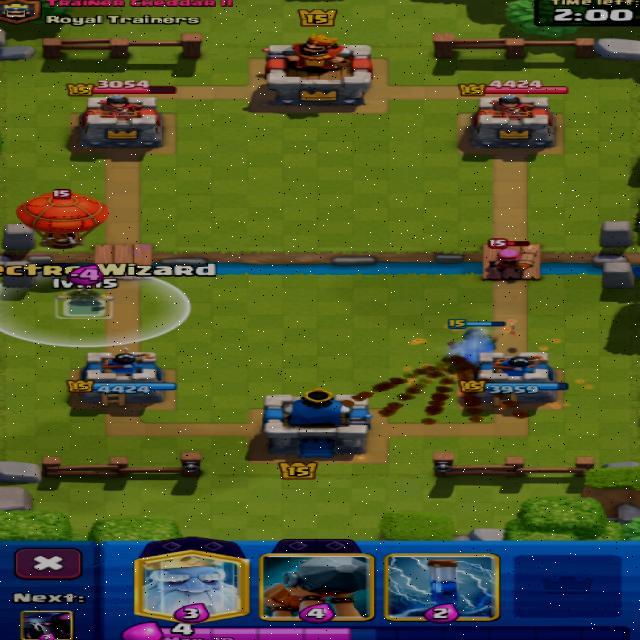Enemy-Balloon: (17, 190, 105, 248)
Enemy-Firecracker: (484, 249, 539, 274)
Enemy-KingTower: (265, 35, 371, 108)
Enemy-PrincessTower: (78, 95, 162, 149), (471, 95, 553, 148)
Player-Bandit: (449, 328, 494, 365)
Player-KingTower-Activated: (262, 388, 370, 457)
Player-PrincessTower: (67, 348, 175, 406), (460, 353, 566, 402)
